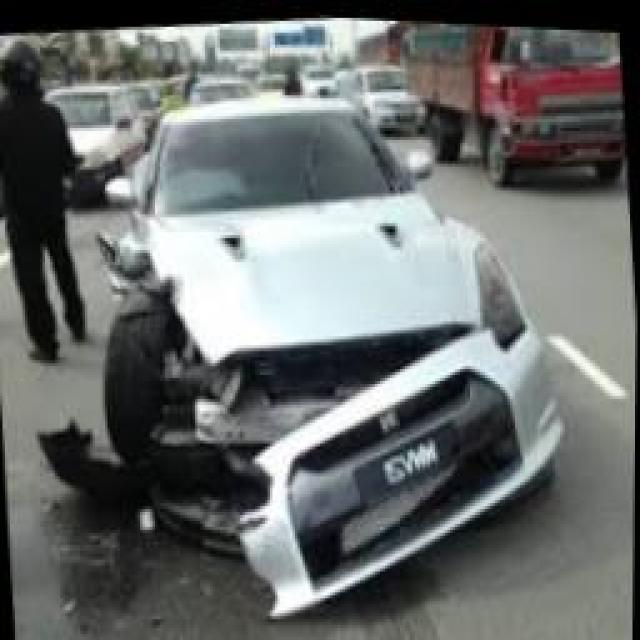Bumper: (110, 295, 546, 622)
Fender: (80, 199, 219, 354)
